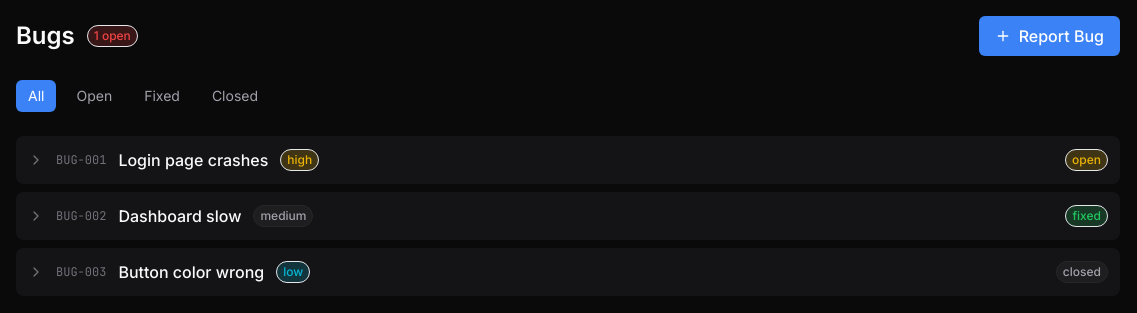
Test: BugsPage › filter toggles reduce visible bugs
Click the button with test id "filter-open".
click(94, 96)  # box [64,80,124,112]
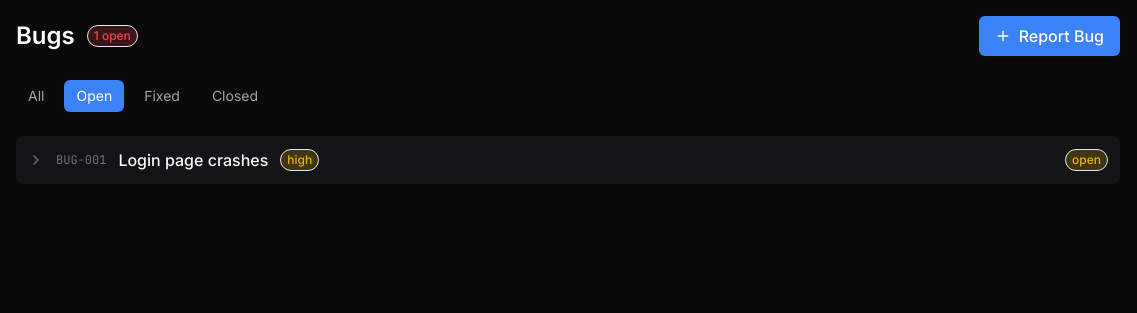
Result: the number of elements with test id "bug-card" is 1 at [16,136,1120,184]
